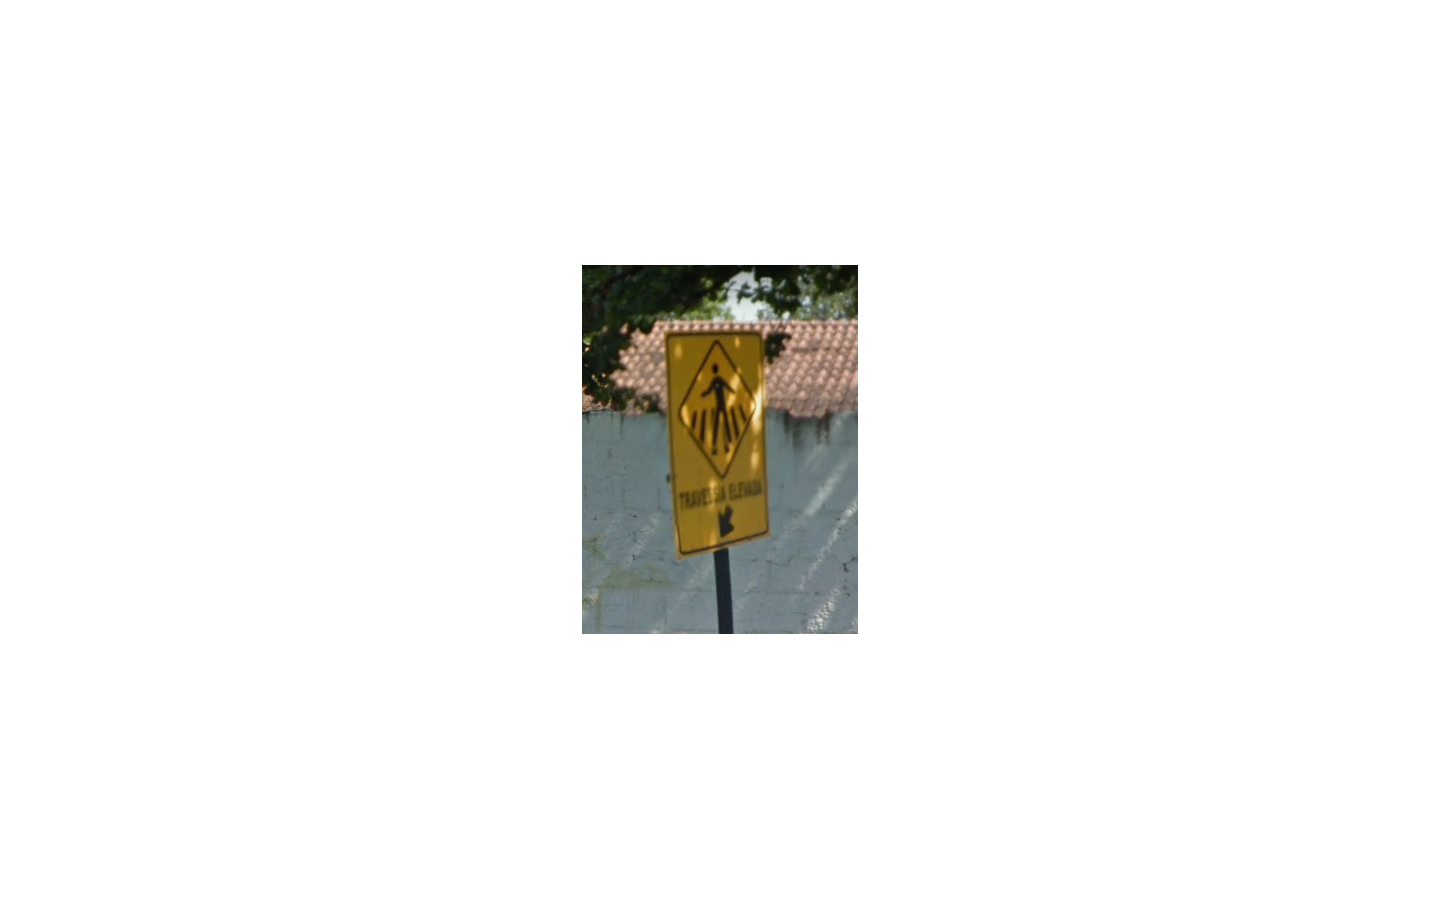telev: (663, 331, 771, 559)
